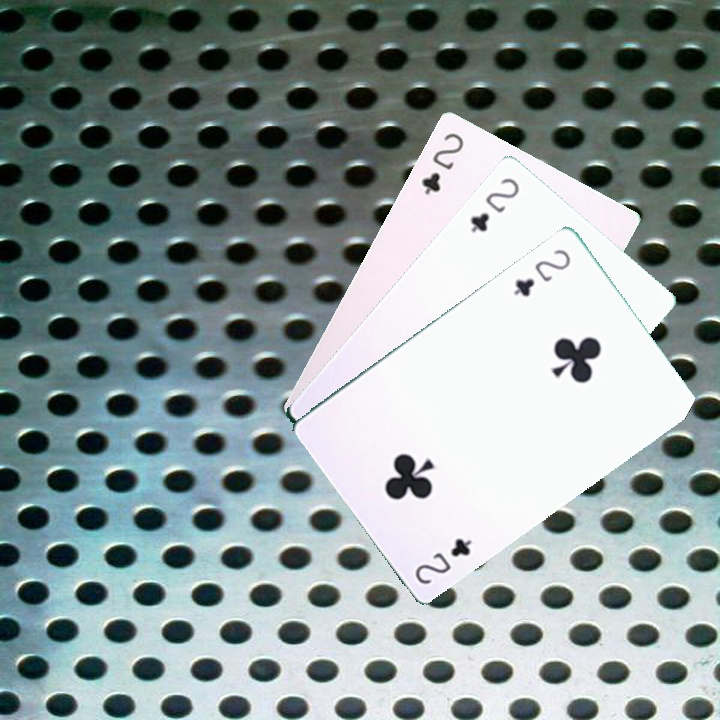2c: (509, 245, 574, 300), (410, 533, 475, 588), (466, 173, 522, 236), (417, 128, 467, 197)
